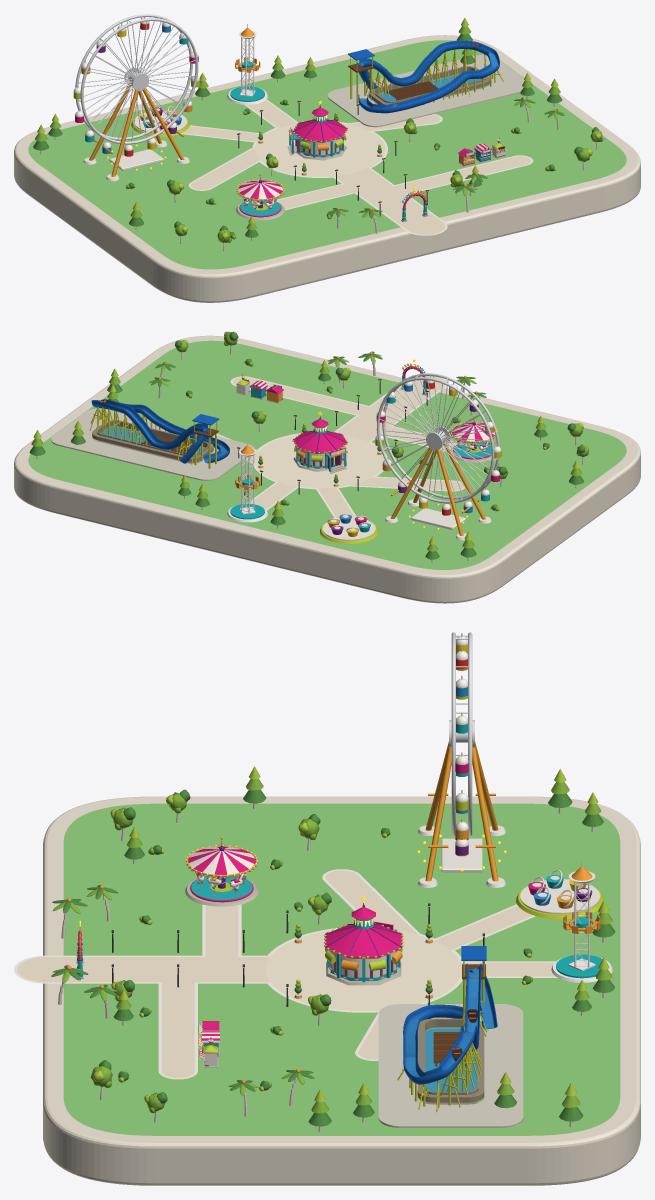
The model's file is funscapes-mini-park.glb.
3 views of the same model, one above another, from view 1: azimuth 30°, elevation 25°; view 2: azimuth 150°, elevation 25°; view 3: azimuth 270°, elevation 25° (orthographic). The views are drawn at different scales.
Parts seen in each view (by area): view 1: lawn, slab, ground, concrete_deck, flume_main, wheel_rim_0, wheel_rim_1, roof_cone, wheel_boarding_deck, pool_basin_wall, pier, pool_coping (+1 smaller); view 2: lawn, slab, ground, concrete_deck, flume_main, wheel_rim_1, wheel_rim_0, roof_cone, pool_coping, pool_basin_wall, wheel_boarding_deck, teacup_floor (+1 smaller); view 3: lawn, slab, ground, concrete_deck, flume_main, roof_cone, flume_main_water, pool_coping, teacup_floor, wheel_boarding_deck, pool_water_surface, wheel_rim_1 (+4 smaller).
Boxes of the visible parts, <box> form: lawn: <box>28,40,626,269</box>; slab: <box>14,35,640,302</box>; ground: <box>181,99,533,235</box>; concrete_deck: <box>327,54,524,127</box>; flume_main: <box>358,40,499,113</box>; wheel_rim_0: <box>80,18,198,144</box>; wheel_rim_1: <box>75,14,192,140</box>; roof_cone: <box>293,119,347,141</box>; wheel_boarding_deck: <box>109,149,164,170</box>; pool_basin_wall: <box>373,66,485,103</box>; pier: <box>386,81,438,99</box>; pool_coping: <box>368,66,489,106</box>; lawn: <box>28,340,626,569</box>; slab: <box>14,335,640,603</box>; ground: <box>214,376,464,518</box>; concrete_deck: <box>51,408,254,480</box>; flume_main: <box>91,399,229,463</box>; wheel_rim_1: <box>376,377,494,503</box>; wheel_rim_0: <box>382,373,499,499</box>; roof_cone: <box>293,431,347,453</box>; pool_coping: <box>92,420,213,462</box>; pool_basin_wall: <box>96,420,208,456</box>; wheel_boarding_deck: <box>411,508,465,529</box>; teacup_floor: <box>322,517,375,540</box>; lawn: <box>63,803,620,1135</box>; slab: <box>43,796,640,1185</box>; ground: <box>14,869,557,1079</box>; concrete_deck: <box>378,1004,523,1127</box>; flume_main: <box>403,963,481,1084</box>; roof_cone: <box>325,924,402,957</box>; flume_main_water: <box>405,969,478,1076</box>; pool_coping: <box>417,1018,484,1102</box>; teacup_floor: <box>520,879,600,914</box>; wheel_boarding_deck: <box>441,838,482,872</box>; pool_water_surface: <box>425,1028,476,1091</box>; wheel_rim_1: <box>468,632,472,835</box>.
Bounding box in the file's own units: 152 × 52.58 × 115.
